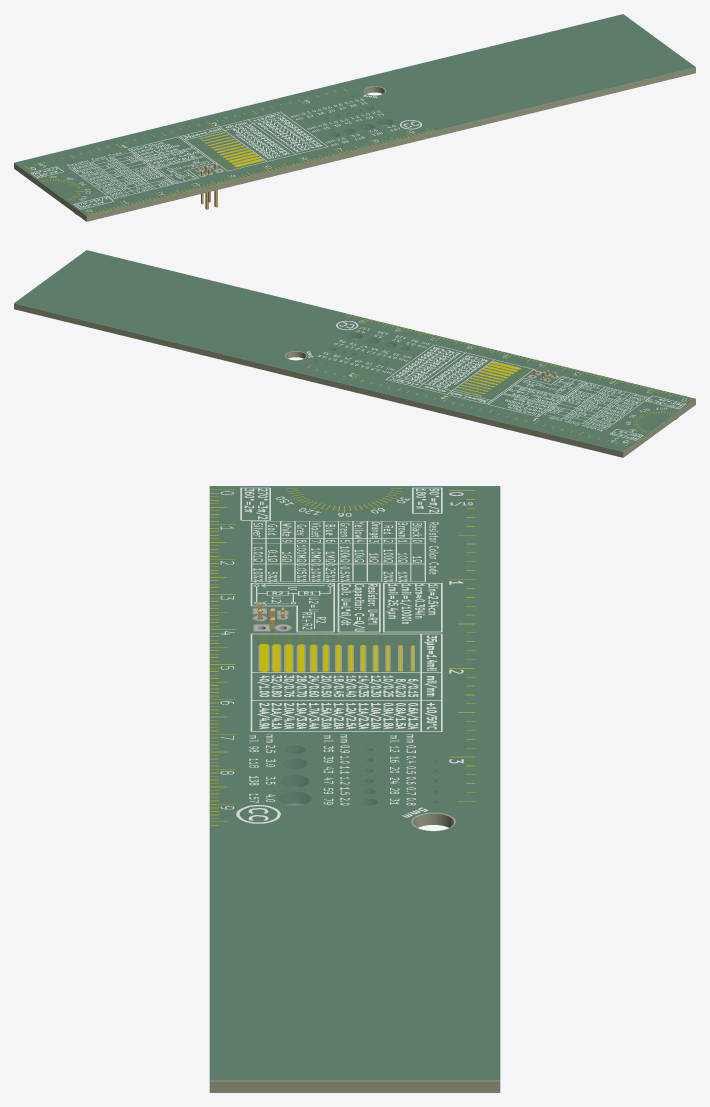
The model's file is board.glb.
3 renders of one model, top to bottom at view 1: azimuth 30°, elevation 25°; view 2: azimuth 150°, elevation 25°; view 3: azimuth 270°, elevation 25°, orthographic. The views are drawn at different scales.
Parts seen in each view (by area): view 1: board_soldermask, board_PCB, board_silkscreen, board_copper; view 2: board_soldermask (×2), board_PCB, board_silkscreen, board_copper; view 3: board_soldermask, board_PCB, board_silkscreen, board_copper.
Boxes of the visible parts, x1,y1,x2,y2 form: board_soldermask: [14, 14, 695, 215]; board_PCB: [14, 15, 695, 221]; board_silkscreen: [30, 94, 421, 211]; board_copper: [25, 88, 433, 214]; board_soldermask (×2): [14, 250, 695, 457]; board_PCB: [14, 251, 695, 457]; board_silkscreen: [307, 320, 686, 443]; board_copper: [306, 314, 691, 445]; board_soldermask: [209, 486, 500, 1080]; board_PCB: [209, 487, 500, 1092]; board_silkscreen: [220, 487, 472, 823]; board_copper: [210, 488, 474, 825].
Bounding box in the file's own units: 0.1702 × 0.0115 × 0.0351.
